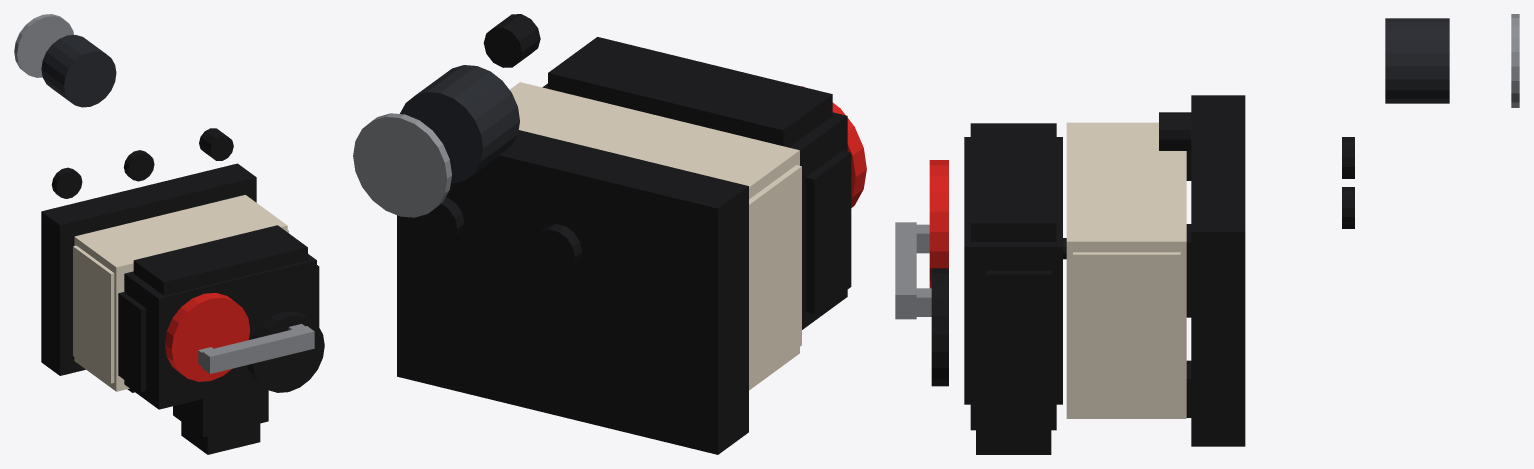
File: SM_VintageProjector.obj
The picture shows the model from 3 angles, left to right: view 1: azimuth 30°, elevation 25°; view 2: azimuth 150°, elevation 25°; view 3: azimuth 270°, elevation 25°; orthographic projection. The views are drawn at different scales.
Visible parts, largest first — view 1: mesh; view 2: mesh; view 3: mesh.
Part boxes in pixels (x1,y1,x2,y2): mesh: (14,14,324,454); mesh: (353,14,866,454); mesh: (895,14,1519,454).
Size of the model in its own units: 30 by 42.9 by 58.
